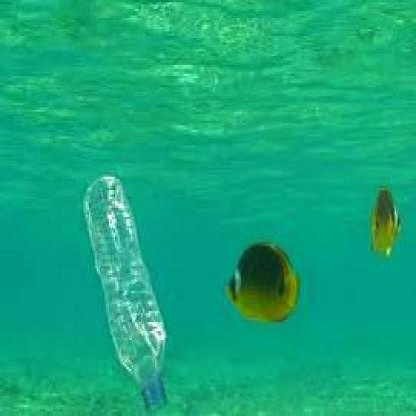pbottle: (72, 172, 174, 416)
